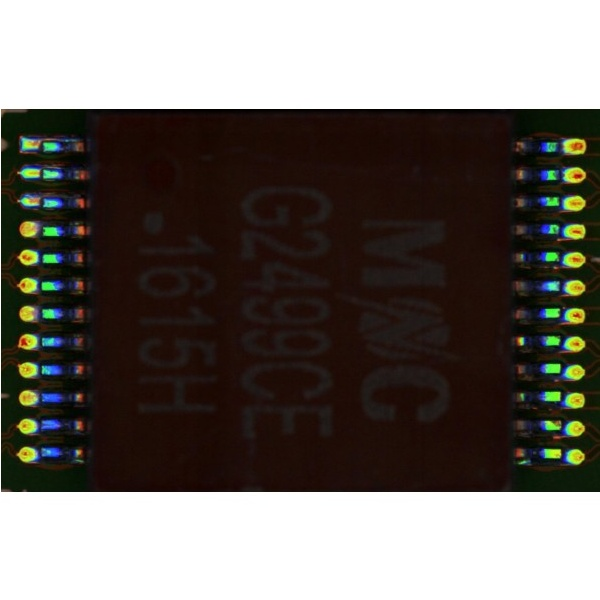Bad_podu: (28, 140, 48, 148), (28, 169, 47, 176), (31, 198, 49, 205)
Bad_qiaojiao: (41, 136, 77, 141)
